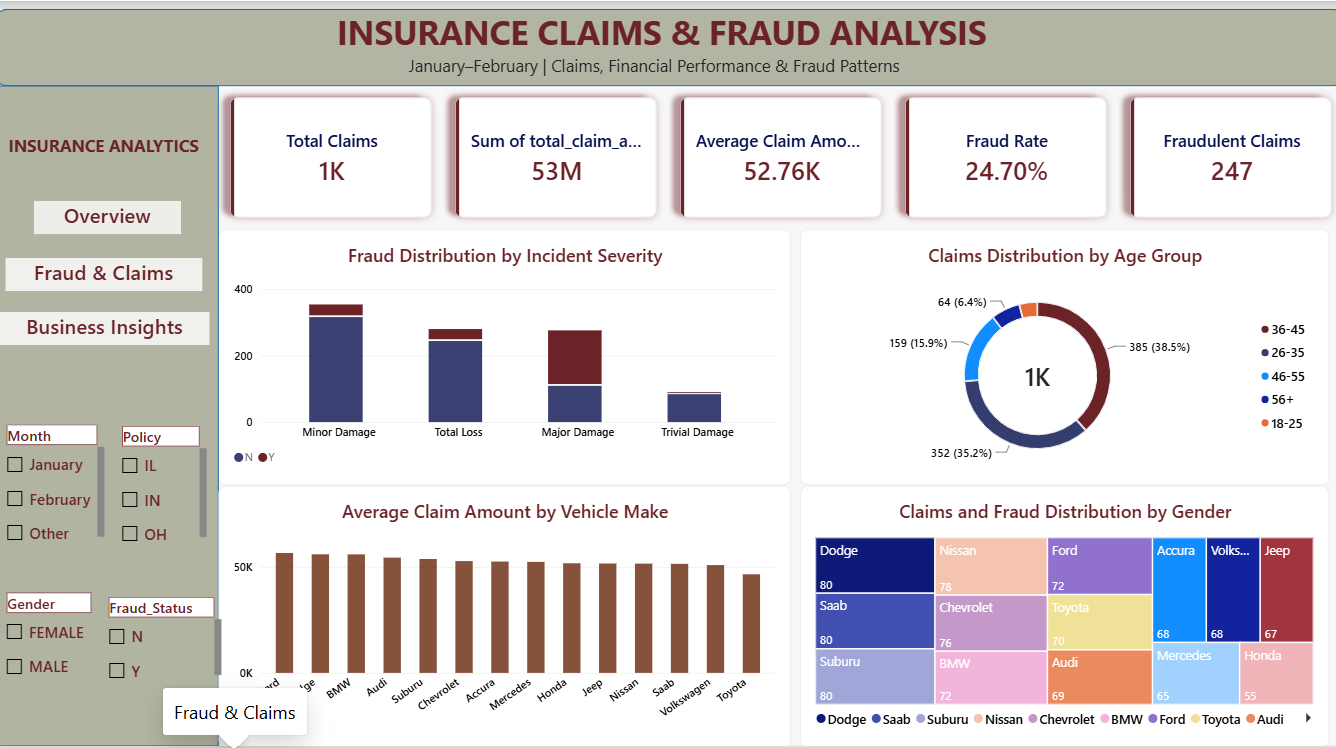

What the dashboard file says about the page in this screenshot:
{"tool":"powerbi","page":{"name":"Fraud & Claims","canvas":[1500,820],"ordinal":1},"visuals":[{"type":"columnChart","title":"Fraud Distribution by Incident Severity","fields":{"Category":["insurance dataset.incident_severity"],"Series":["insurance dataset.fraud_reported"],"Y":["insurance dataset.Total Claims"]},"box":[248.6,245.7,635.7,284.3],"z":1000},{"type":"donutChart","title":"Claims Distribution by Age Group","fields":{"Category":["insurance dataset.Age Group"],"Y":["insurance dataset.Total Claims"]},"box":[894.3,245.7,587.1,284.3],"z":2000},{"type":"shape","box":[0,0,1500,85.7],"z":4000},{"type":"shape","box":[0,85.7,248.6,734.3],"z":5000},{"type":"treemap","title":"Claims and Fraud Distribution by Gender","fields":{"Group":["insurance dataset.auto_make"],"Values":["insurance dataset.Total Claims"]},"box":[894.3,530,587.1,290],"z":6000},{"type":"clusteredColumnChart","title":"Average Claim Amount by Vehicle Make","fields":{"Category":["insurance dataset.auto_make"],"Y":["insurance dataset.Average Claim Amount"]},"box":[248.6,530,635.7,290],"z":7000},{"type":"cardVisual","fields":{"Data":["insurance dataset.Total Claims","Sum(insurance dataset.total_claim_amount)","insurance dataset.Average Claim Amount","insurance dataset.Fraud Rate","insurance dataset.Fraudulent Claims"]},"box":[248.6,85.7,1251.7,160],"z":8000},{"type":"textbox","box":[208.3,0,1065,50],"z":9000},{"type":"textbox","box":[408.3,50,648.3,35],"z":10000},{"type":"actionButton","title":"Overview","box":[43.3,213.3,163.3,36.7],"z":11000},{"type":"actionButton","title":"Fraud & Claims","box":[11.7,276.7,218.3,36.7],"z":12000},{"type":"textbox","box":[15,138.3,220,46.7],"z":13000},{"type":"actionButton","title":"Business Insights ","box":[5,336.7,233.3,36.7],"z":14000},{"type":"slicer","fields":{"Values":["insurance dataset.Incident Month Name"]},"box":[5,461.7,116.7,136.7],"z":14001},{"type":"slicer","fields":{"Values":["insurance dataset.policy_state"]},"box":[133.3,463.3,101.7,135],"z":14002},{"type":"slicer","fields":{"Values":["insurance dataset.insured_sex"]},"box":[5,648.3,110,108.3],"z":14003},{"type":"slicer","fields":{"Values":["insurance dataset.fraud_reported"]},"box":[118.3,653.3,133.3,98.3],"z":14004}]}

Visuals, with their boxes on the page's 1500x820 design canvas (x1, y1, x2, y2). These are canvas units, not pixel positions in the 1336x748 screenshot, which may show the page scaled, cropped or inside an application window:
"Fraud Distribution by Incident Severity" columnChart: left=249, top=246, right=884, bottom=530
"Claims Distribution by Age Group" donutChart: left=894, top=246, right=1481, bottom=530
shape: left=0, top=0, right=1500, bottom=86
shape: left=0, top=86, right=249, bottom=820
"Claims and Fraud Distribution by Gender" treemap: left=894, top=530, right=1481, bottom=820
"Average Claim Amount by Vehicle Make" clusteredColumnChart: left=249, top=530, right=884, bottom=820
cardVisual - insurance dataset.Total Claims x Sum(insurance dataset.total_claim_amount): left=249, top=86, right=1500, bottom=246
textbox: left=208, top=0, right=1273, bottom=50
textbox: left=408, top=50, right=1057, bottom=85
"Overview" actionButton: left=43, top=213, right=207, bottom=250
"Fraud & Claims" actionButton: left=12, top=277, right=230, bottom=313
textbox: left=15, top=138, right=235, bottom=185
"Business Insights " actionButton: left=5, top=337, right=238, bottom=373
slicer - insurance dataset.Incident Month Name: left=5, top=462, right=122, bottom=598
slicer - insurance dataset.policy_state: left=133, top=463, right=235, bottom=598
slicer - insurance dataset.insured_sex: left=5, top=648, right=115, bottom=757
slicer - insurance dataset.fraud_reported: left=118, top=653, right=252, bottom=752
